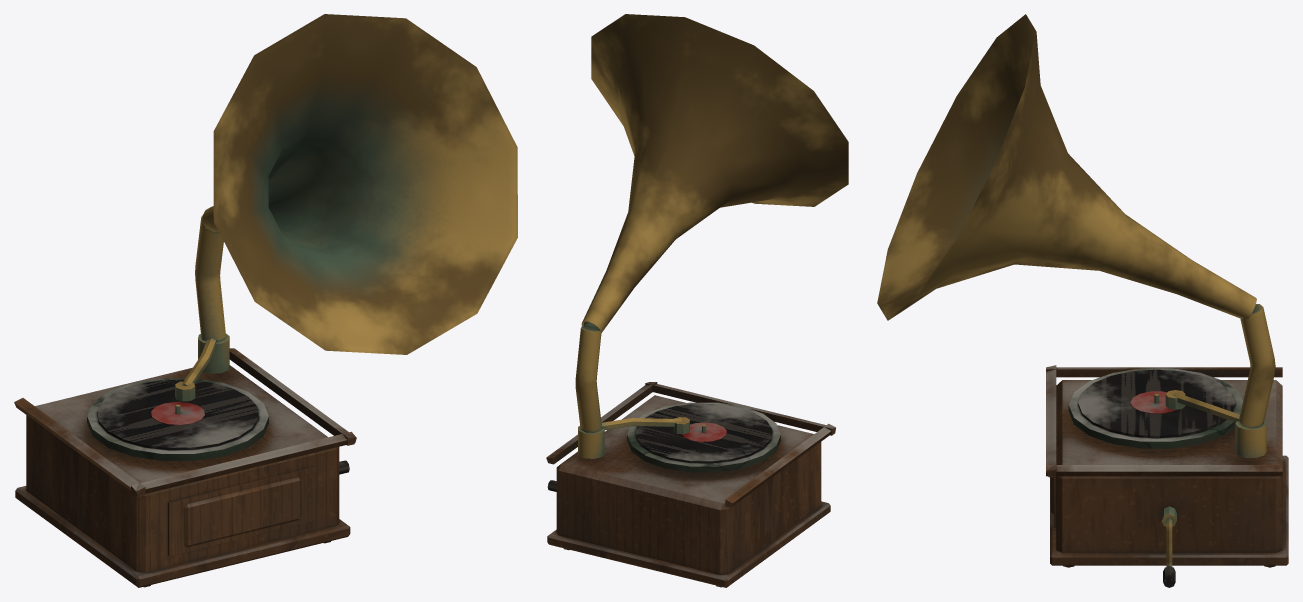
The model's file is Gramophone.fbx.
The picture shows the model from 3 angles, left to right: view 1: azimuth 30°, elevation 25°; view 2: azimuth 150°, elevation 25°; view 3: azimuth 270°, elevation 25°; orthographic projection. The views are drawn at different scales.
Parts seen in each view (by area): view 1: Gramophone; view 2: Gramophone; view 3: Gramophone.
Boxes of the visible parts, x1,y1,x2,y2 form: Gramophone: (14,14,517,587); Gramophone: (546,14,848,587); Gramophone: (877,14,1288,587).
Size of the model in its own units: 1.79 by 2.78 by 1.96.
Materials: 1 (1 with a texture image).
